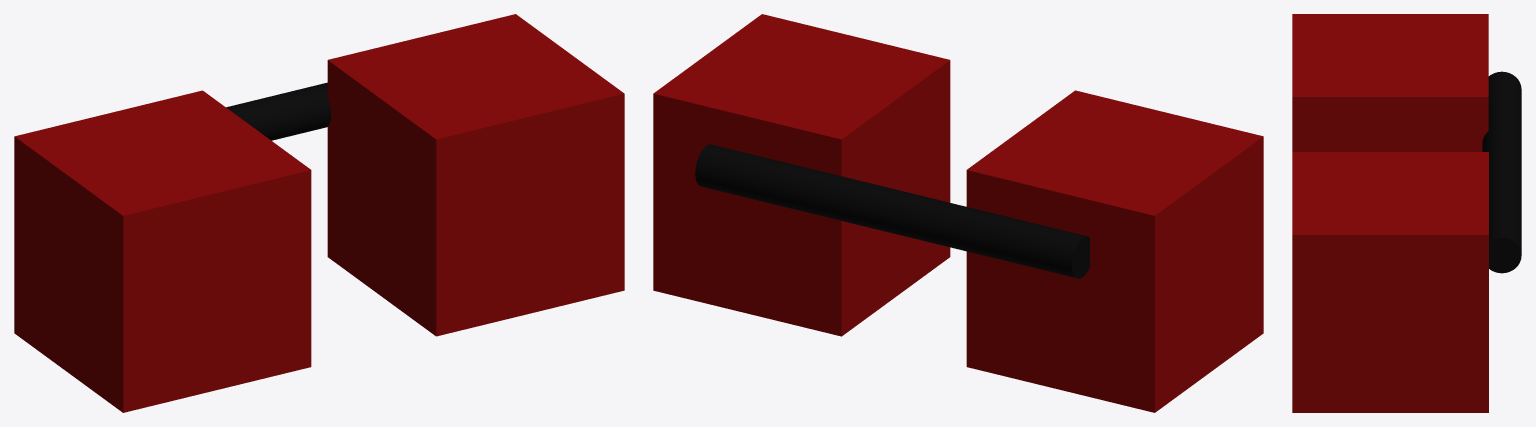
3 views of the same model, side by side, from view 1: azimuth 30°, elevation 25°; view 2: azimuth 150°, elevation 25°; view 3: azimuth 270°, elevation 25° (orthographic). The views are drawn at different scales.
Visible parts, largest first — view 1: BoxB, BoxA, Axel; view 2: BoxB, BoxA, Axel; view 3: BoxA, BoxB, Axel.
Part boxes in pixels (<box>): BoxB: <box>14,90,311,412</box>; BoxA: <box>327,14,624,336</box>; Axel: <box>226,82,330,140</box>; BoxB: <box>966,90,1263,412</box>; BoxA: <box>653,14,950,336</box>; Axel: <box>695,144,1089,278</box>; BoxA: <box>1292,152,1488,412</box>; BoxB: <box>1292,14,1488,151</box>; Axel: <box>1482,71,1521,273</box>.
Bounding box in the file's own units: 2.66 × 1 × 1.17.
